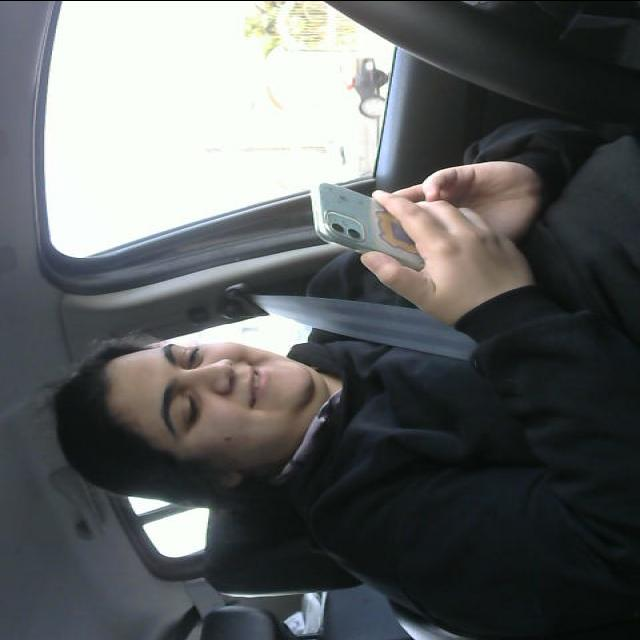mobile use: (307, 179, 453, 267)
